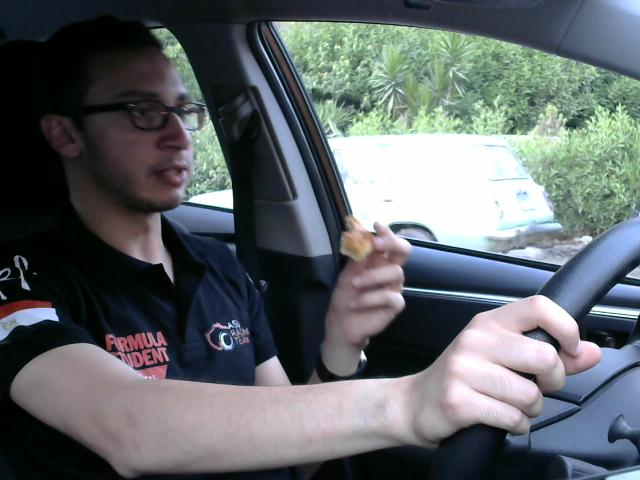Eating: (335, 209, 386, 261)
